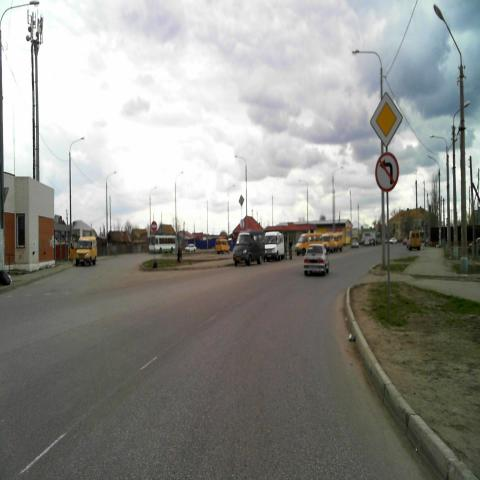3_18_2: (375, 152, 399, 192)
